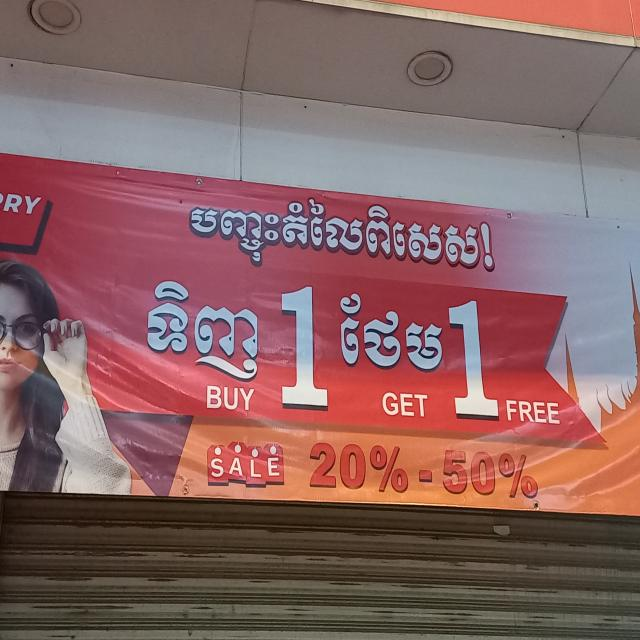Yolov11kh: (184, 181, 480, 271), (143, 268, 260, 383), (333, 290, 443, 376), (273, 275, 330, 411), (446, 291, 501, 419), (439, 445, 501, 501), (304, 439, 368, 490)
